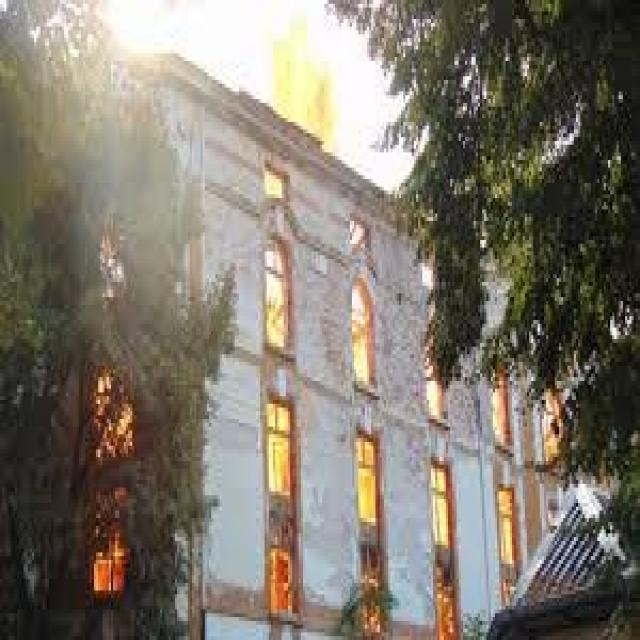fire: (257, 53, 365, 463)
